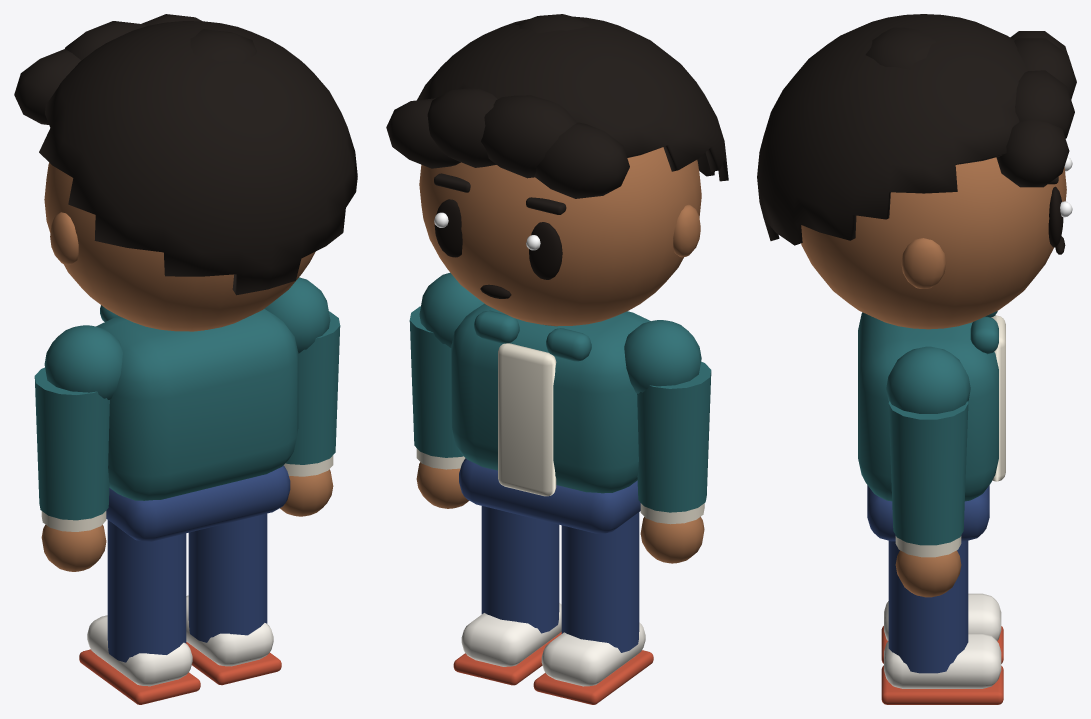
The model's file is character.glb.
3 renders of one model, left to right at view 1: azimuth 30°, elevation 25°; view 2: azimuth 150°, elevation 25°; view 3: azimuth 270°, elevation 25°, orthographic.
Visible parts, largest first — view 1: character_head_mesh, character_body, character_arm_l_mesh, character_leg_l_mesh, character_leg_r_mesh, character_arm_r_mesh; view 2: character_head_mesh, character_body, character_arm_l_mesh, character_leg_l_mesh, character_leg_r_mesh, character_arm_r_mesh; view 3: character_head_mesh, character_arm_r_mesh, character_body, character_leg_r_mesh, character_leg_l_mesh.
Part boxes in pixels (x1,y1,x2,y2): character_head_mesh: (14,14,357,331); character_body: (96,305,298,541); character_arm_l_mesh: (34,325,122,571); character_leg_l_mesh: (79,520,200,704); character_leg_r_mesh: (186,513,281,685); character_arm_r_mesh: (264,277,340,516); character_head_mesh: (386,14,728,325); character_body: (451,303,650,533); character_arm_l_mesh: (624,320,711,563); character_leg_l_mesh: (533,512,653,704); character_leg_r_mesh: (453,506,561,685); character_arm_r_mesh: (409,272,484,508); character_head_mesh: (757,14,1076,329); character_arm_r_mesh: (886,346,970,597); character_body: (858,311,1005,541); character_leg_r_mesh: (881,541,1003,704); character_leg_l_mesh: (881,593,1003,663).
Size of the model in its own units: 0.7257 by 1.51 by 0.681.
